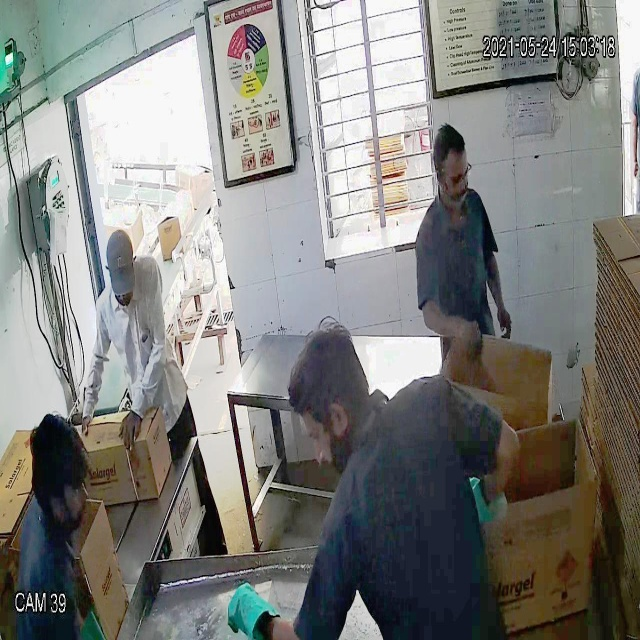Gafas: (432, 156, 472, 195)
